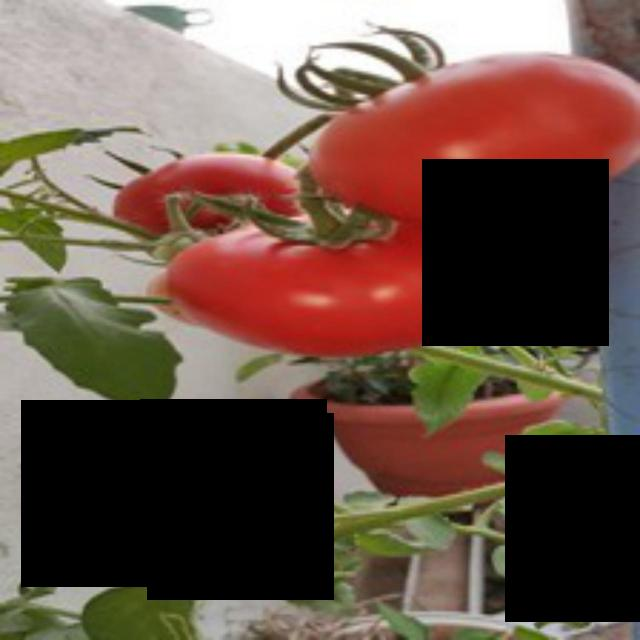tomato: (170, 195, 560, 352), (294, 54, 637, 226)
